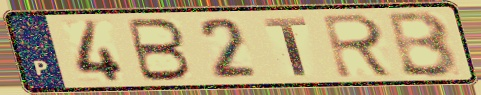2: (198, 16, 261, 80)
4: (72, 18, 127, 84)
B: (386, 9, 462, 79), (124, 17, 195, 83)
R: (319, 11, 399, 80)
T: (261, 16, 310, 78)
